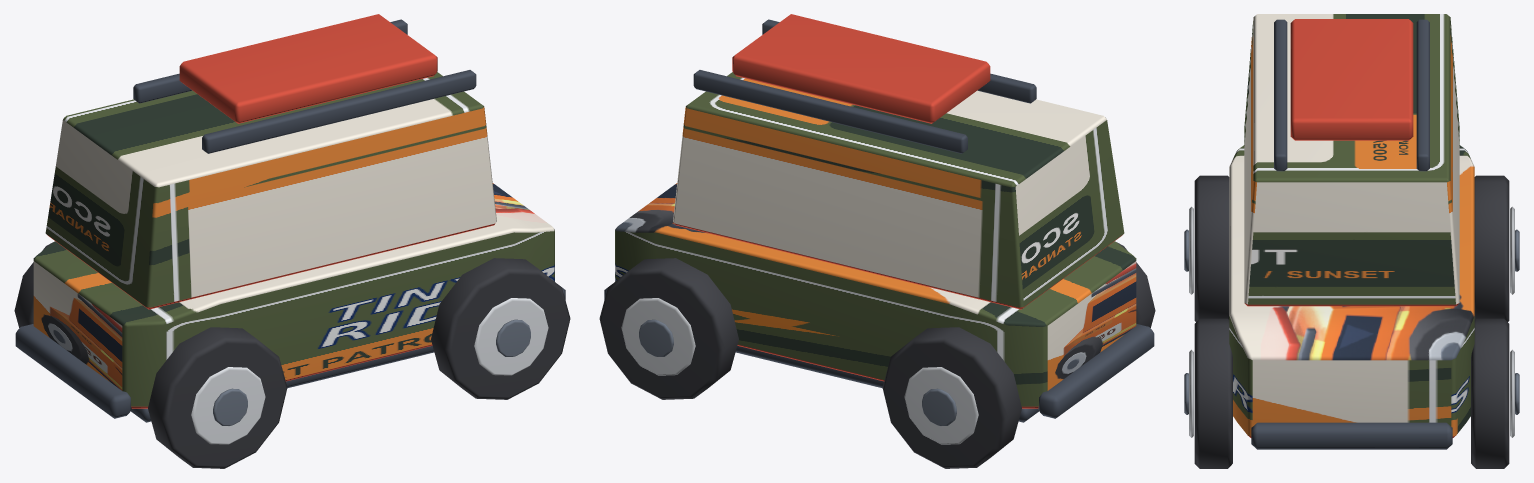
3 renders of one model, left to right at view 1: azimuth 30°, elevation 25°; view 2: azimuth 150°, elevation 25°; view 3: azimuth 270°, elevation 25°, orthographic. The views are drawn at different scales.
Visible parts, largest first — view 1: DP-05_cabin, DP-05_connected_shell, utility load, Tire, Tire.002, utility rail, front bumper, Rim, Rim.002, underbody, utility rail.001, Hub.002 (+2 smaller); view 2: DP-05_cabin, DP-05_connected_shell, utility load, Tire.001, Tire.003, utility rail.001, front bumper, Rim.001, Rim.003, underbody, utility rail, Hub.003 (+2 smaller); view 3: DP-05_cabin, DP-05_connected_shell, utility load, Tire.002, Tire.003, rear bumper, Tire, Tire.001, utility rail, utility rail.001, Rim.002, Rim.003 (+2 smaller).
Part boxes in pixels (left/top/right/bottom): DP-05_cabin: left=45, top=72, right=496, bottom=309; DP-05_connected_shell: left=33, top=183, right=554, bottom=408; utility load: left=179, top=14, right=437, bottom=123; Tire: left=148, top=327, right=287, bottom=468; Tire.002: left=431, top=258, right=570, bottom=399; utility rail: left=202, top=70, right=476, bottom=153; front bumper: left=15, top=324, right=131, bottom=418; Rim: left=191, top=367, right=265, bottom=444; Rim.002: left=474, top=298, right=548, bottom=375; underbody: left=131, top=346, right=434, bottom=422; utility rail.001: left=133, top=19, right=407, bottom=103; Hub.002: left=496, top=319, right=530, bottom=356; DP-05_cabin: left=673, top=72, right=1124, bottom=309; DP-05_connected_shell: left=615, top=183, right=1136, bottom=408; utility load: left=732, top=14, right=990, bottom=123; Tire.001: left=882, top=327, right=1021, bottom=468; Tire.003: left=599, top=258, right=738, bottom=399; utility rail.001: left=693, top=70, right=967, bottom=153; front bumper: left=1038, top=324, right=1154, bottom=418; Rim.001: left=904, top=367, right=978, bottom=444; Rim.003: left=621, top=298, right=695, bottom=375; underbody: left=735, top=346, right=1038, bottom=422; utility rail: left=762, top=19, right=1036, bottom=103; Hub.003: left=639, top=319, right=673, bottom=356; DP-05_cabin: left=1244, top=14, right=1459, bottom=306; DP-05_connected_shell: left=1229, top=145, right=1474, bottom=437; utility load: left=1290, top=19, right=1413, bottom=140; Tire.002: left=1194, top=318, right=1232, bottom=468; Tire.003: left=1471, top=318, right=1509, bottom=468; rear bumper: left=1251, top=422, right=1452, bottom=449; Tire: left=1194, top=175, right=1229, bottom=321; Tire.001: left=1474, top=175, right=1509, bottom=321; utility rail: left=1274, top=19, right=1287, bottom=171; utility rail.001: left=1416, top=19, right=1429, bottom=171; Rim.002: left=1189, top=349, right=1193, bottom=437; Rim.003: left=1510, top=349, right=1514, bottom=437.
Size of the model in its own units: 370 by 247 by 227.
